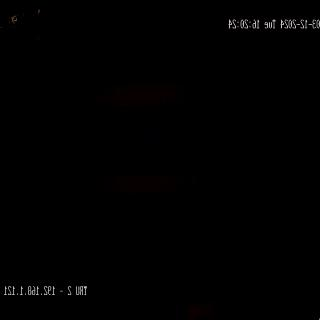screen: (77, 6, 233, 270)
